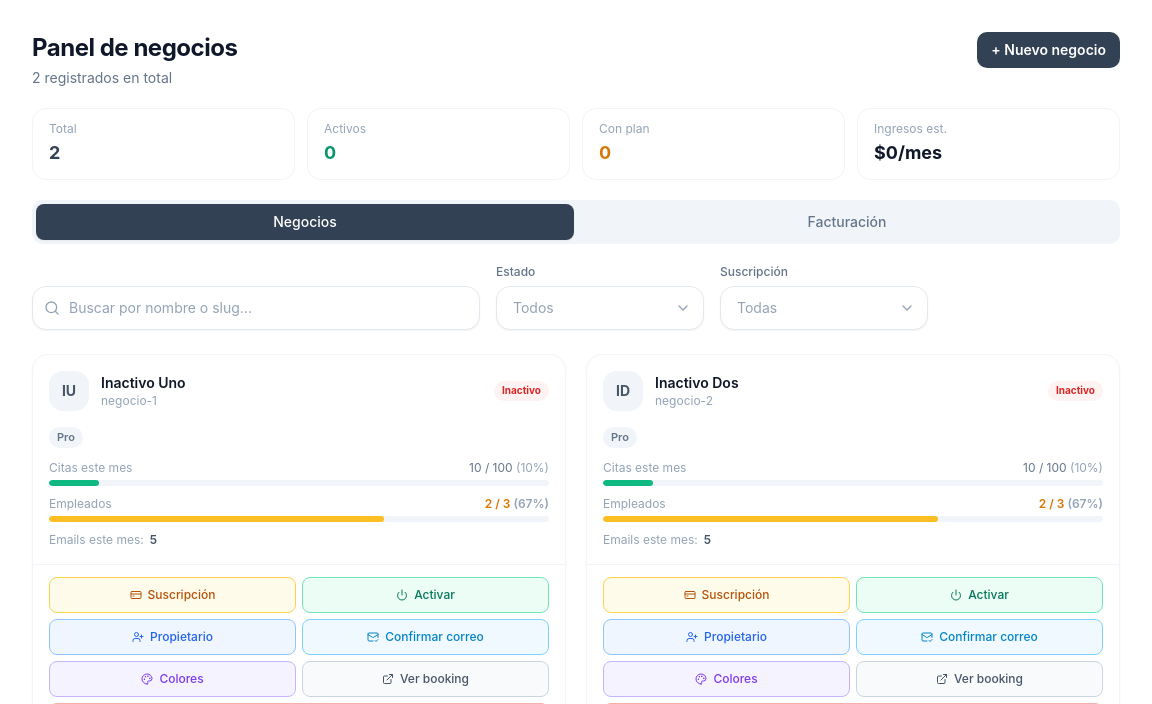
NegociosAdminPage — desactivar negocio › mientras se activa un negocio solo su tarjeta queda en espera
Check: the text "Inactivo Uno" is shown, box 101,374 -> 186,391
Click the button "Activar" below "negocio-1" at (426, 595), box 302,577 -> 549,613
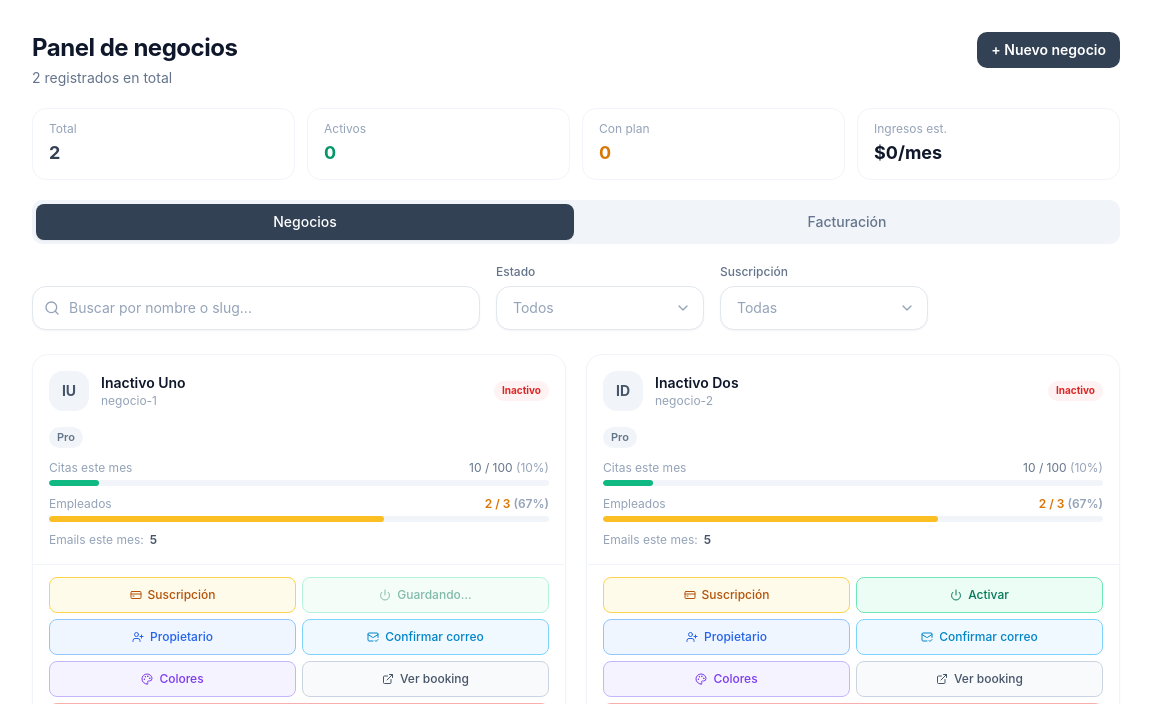
Check: the button "Activar" is enabled, box 856,577 -> 1103,613
Check: the button "Guardando…" is disabled, box 302,577 -> 549,613
